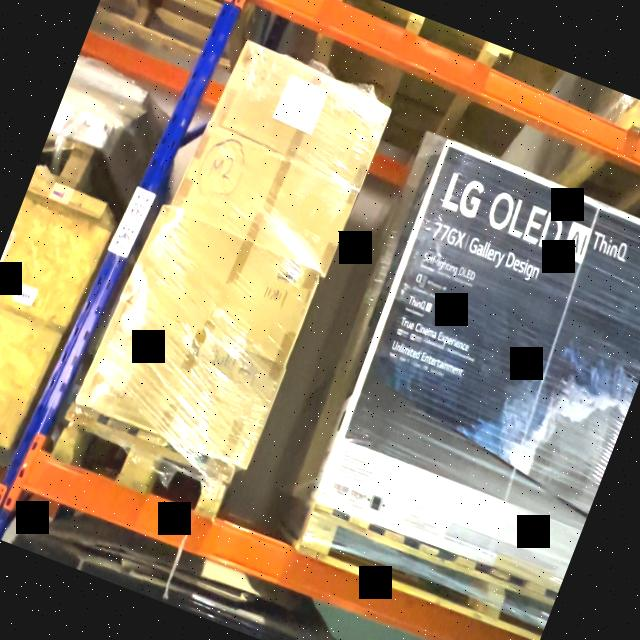box: (315, 141, 640, 578), (80, 300, 286, 470), (125, 214, 319, 364), (175, 127, 360, 268), (215, 51, 390, 181)
